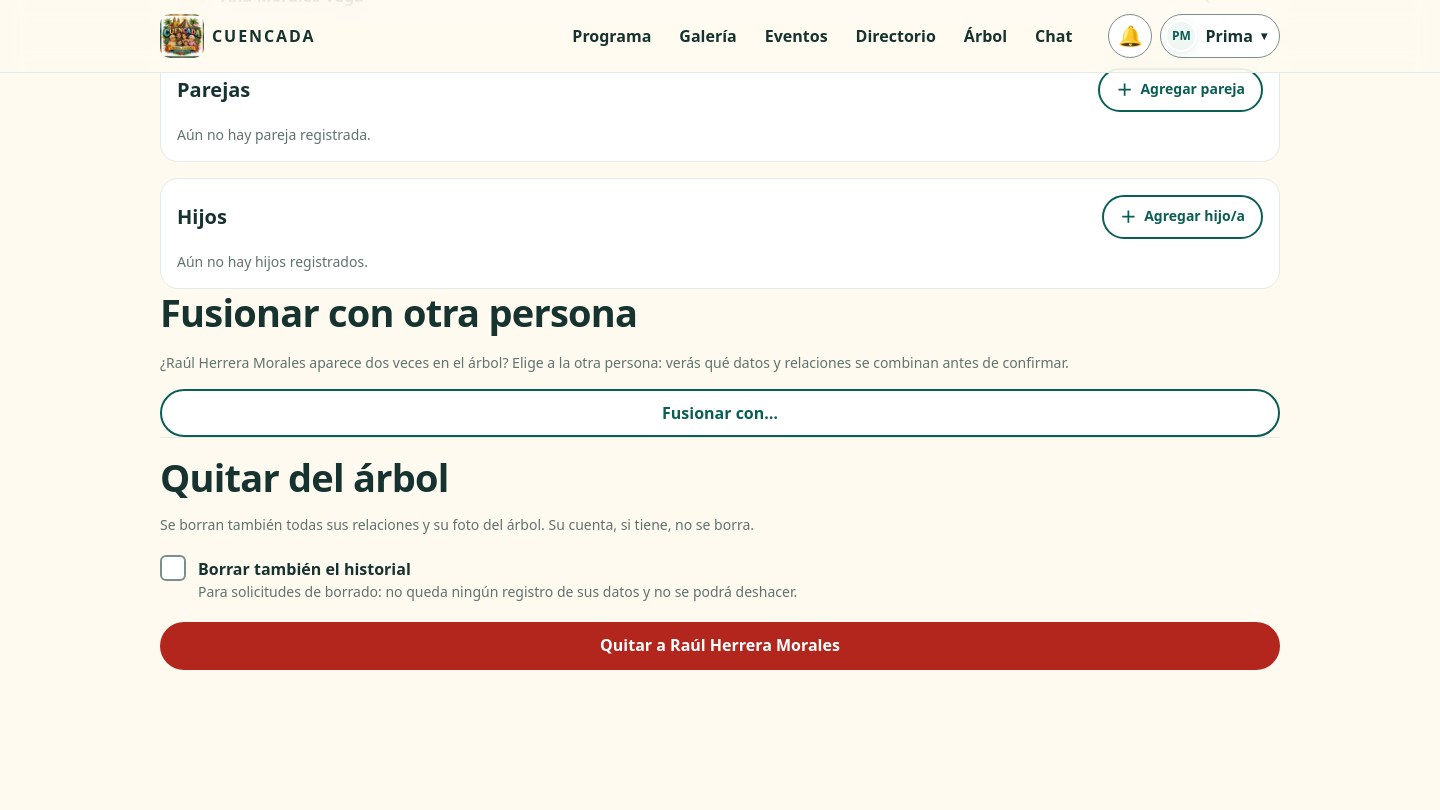
Test: AdminPersonPage › shows the server's 409 message when the person got linked meanwhile
(page scrolled)
Click the button "Quitar a Raúl Herrera Morales".
click(720, 646)  # box [160,622,1280,670]
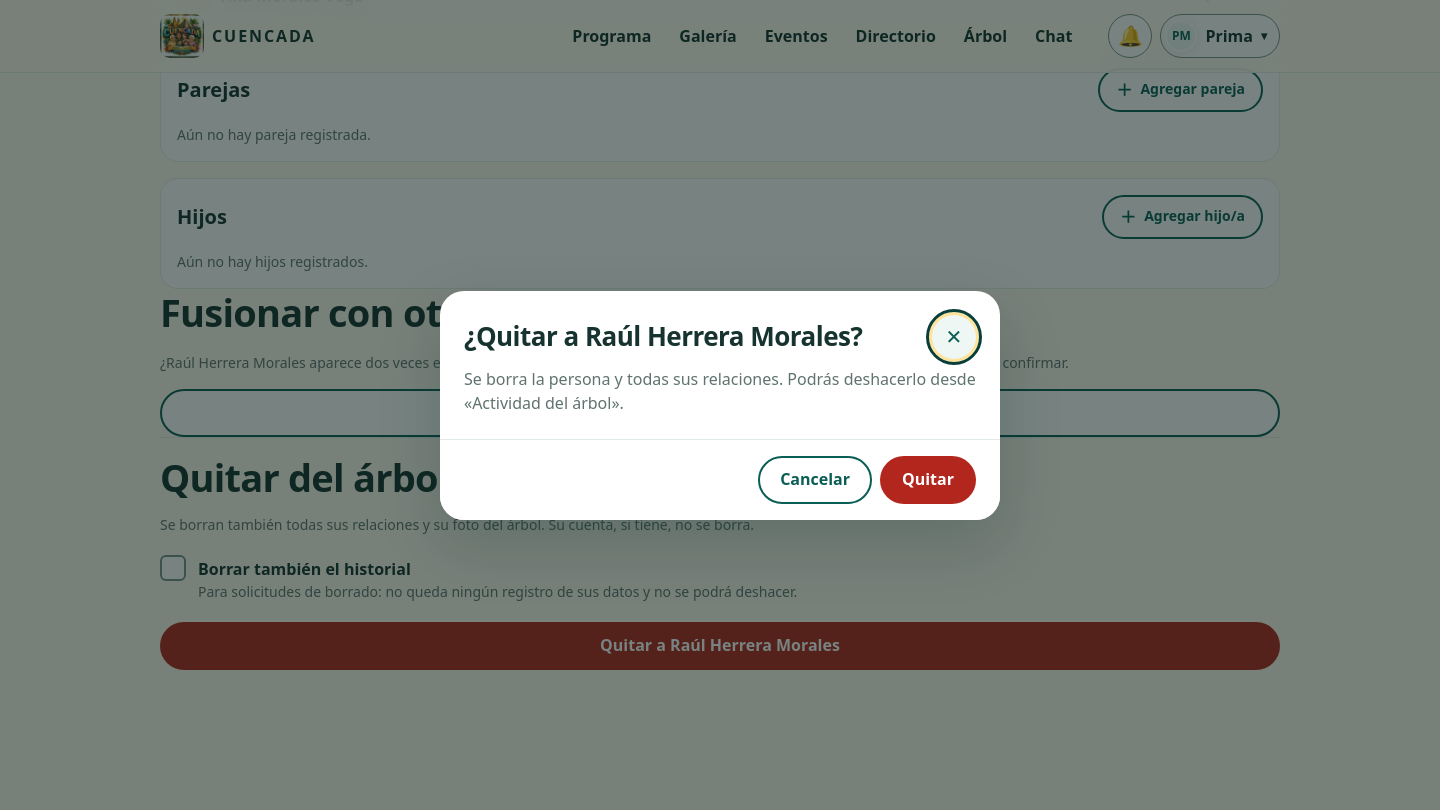
Click the button "Quitar".
click(928, 480)  # box [880,456,976,504]
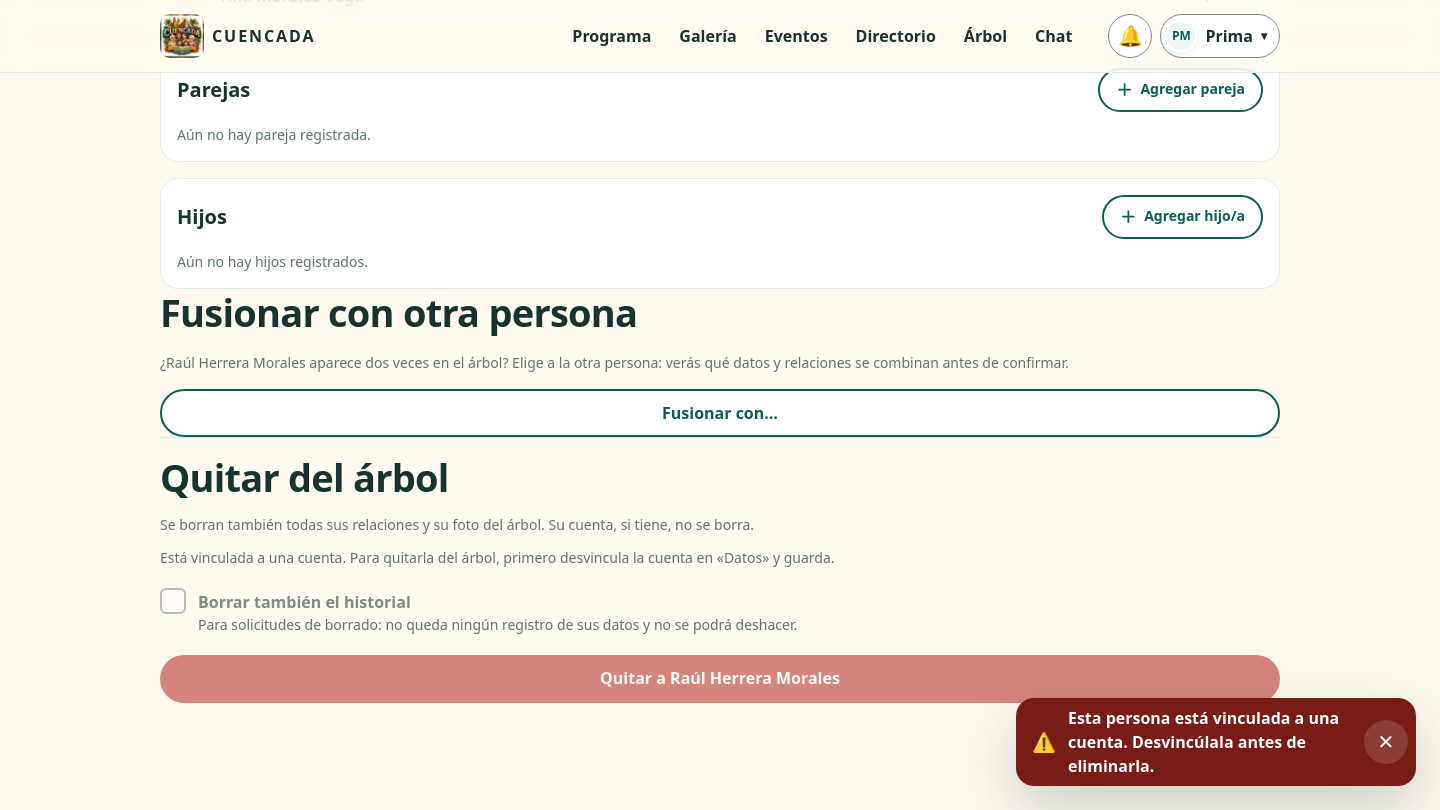
Expected: the text "Esta persona está vinculada a una cuenta. Desvincúlala antes de eliminarla." is shown, [1068,706,1352,778]
